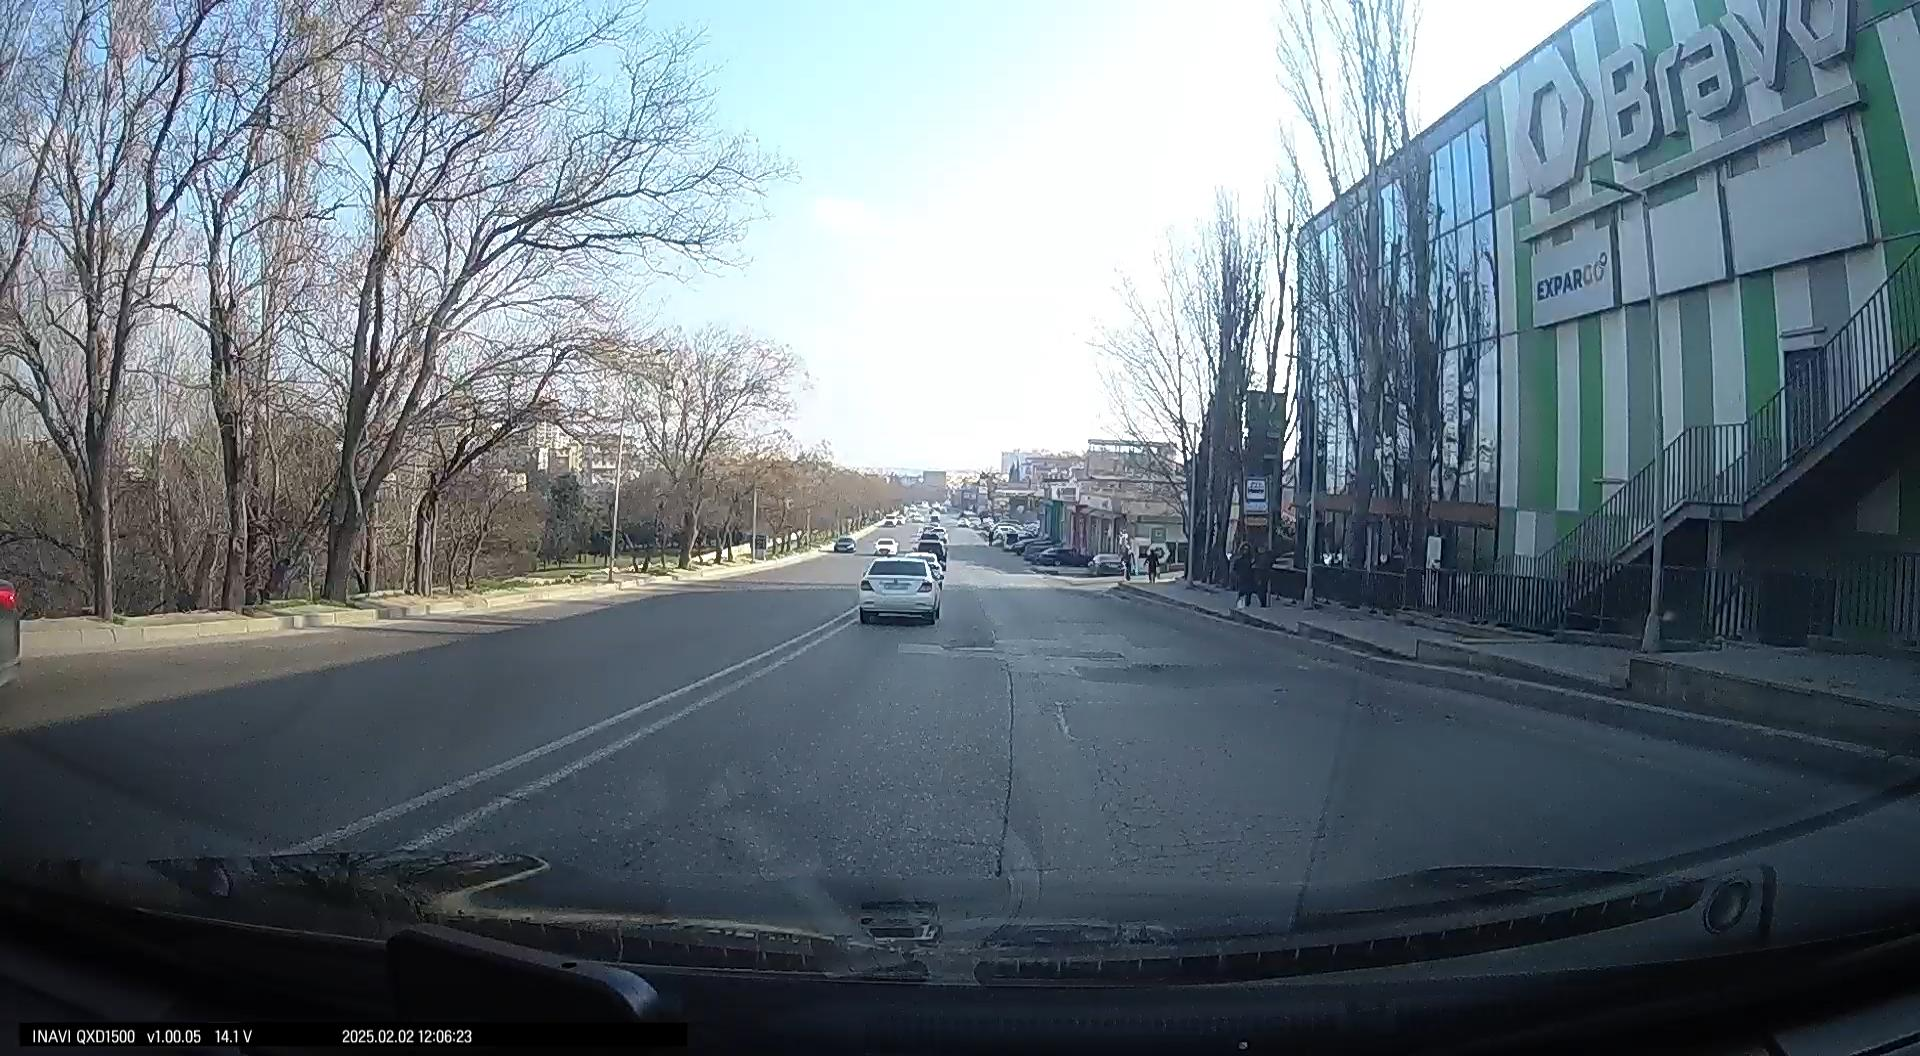banner: (1530, 225, 1620, 321)
